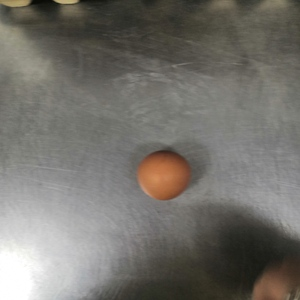brown egg: (137, 149, 192, 201)
